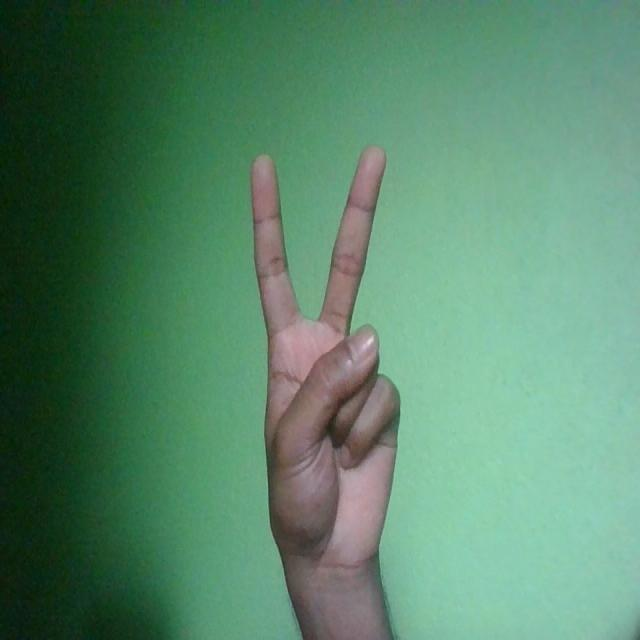Fist: (251, 140, 402, 580)
